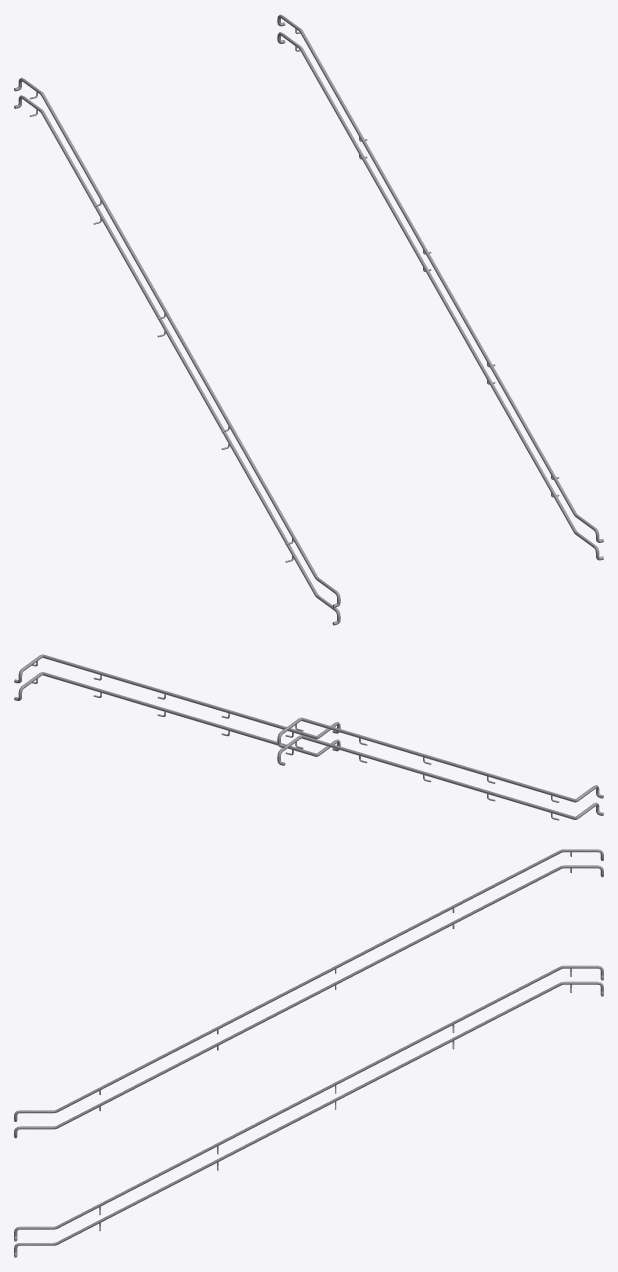
File: gteki_ik_stair_n19_r170_t299_w3038_rails_wall.glb
The picture shows the model from 3 angles, top to bottom: view 1: azimuth 30°, elevation 25°; view 2: azimuth 150°, elevation 25°; view 3: azimuth 270°, elevation 25°; orthographic projection. The views are drawn at different scales.
Parts seen in each view (by area): view 1: VIS_handrails; view 2: VIS_handrails, VIS_rail_supports; view 3: VIS_handrails.
Part boxes in pixels (<box>): VIS_handrails: <box>14,14,603,625</box>; VIS_handrails: <box>14,654,603,819</box>; VIS_rail_supports: <box>32,661,559,820</box>; VIS_handrails: <box>14,849,603,1257</box>.
Bounding box in the file's own units: 3.26 × 3.58 × 6.62.
Materials: 1 (1 with a texture image).
